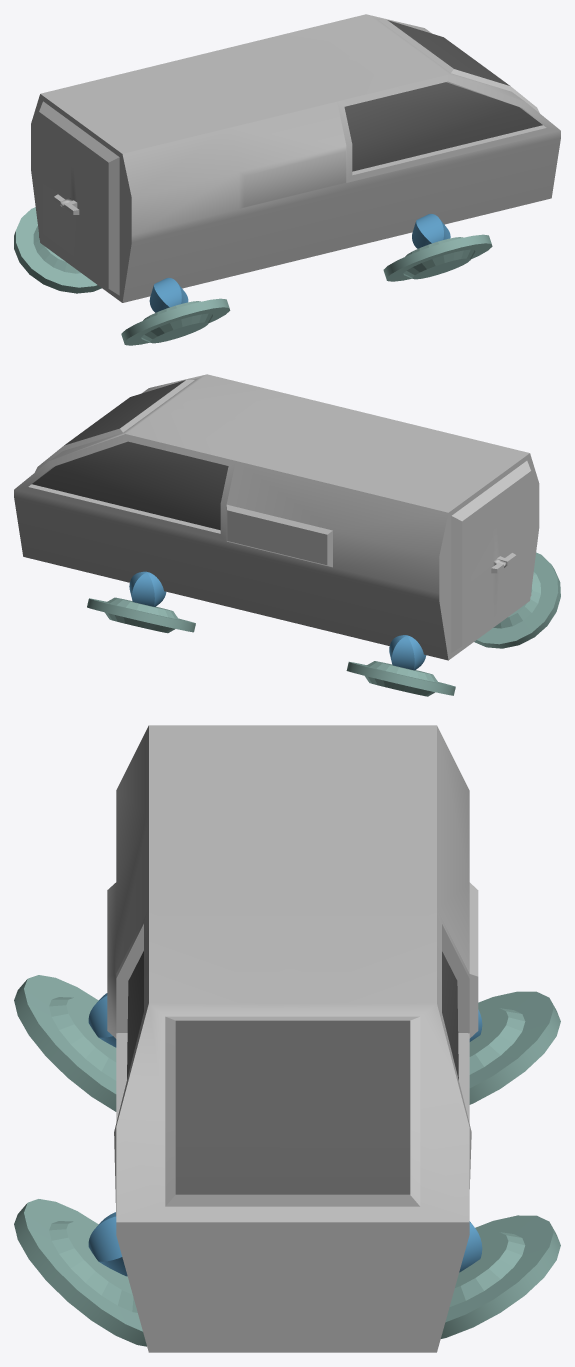
The model's file is Futuristic van 2.fbx.
The picture shows the model from 3 angles, top to bottom: view 1: azimuth 30°, elevation 25°; view 2: azimuth 150°, elevation 25°; view 3: azimuth 270°, elevation 25°; orthographic projection. The views are drawn at different scales.
Parts seen in each view (by area): view 1: polySurface3792; view 2: polySurface3792; view 3: polySurface3792.
Boxes of the visible parts, box(x1,y1,x2,y2) form: polySurface3792: box(14, 14, 560, 345); polySurface3792: box(14, 374, 560, 696); polySurface3792: box(14, 725, 560, 1352).
Bounding box in the file's own units: 150 × 64.71 × 91.1.
